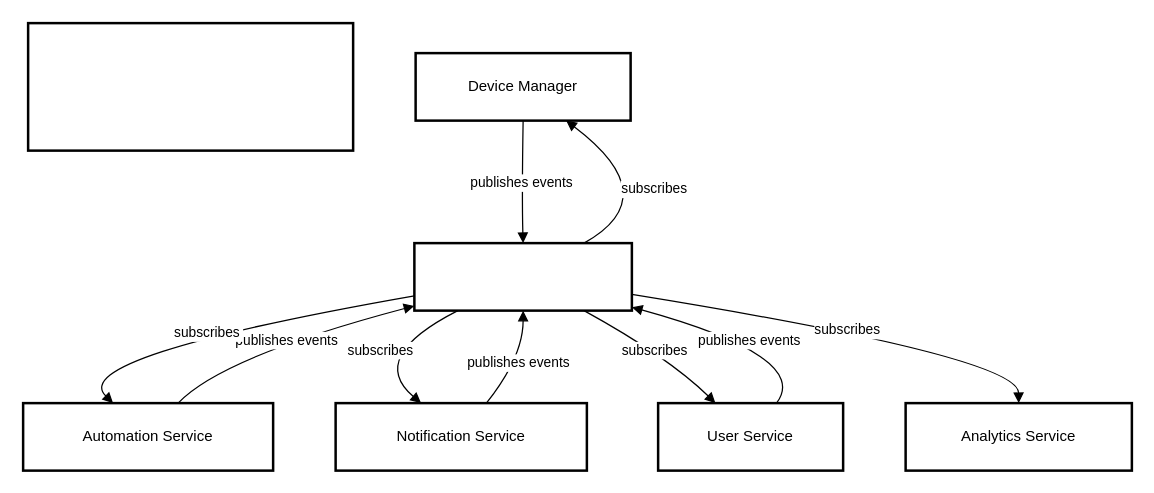
Some shapes in this 1154 by 493 pixel diagram are drawn without their labels. Here are the shapes that lost their labels. From the top down, the centre of each, then its label:
At [190,86]: "After: Circular Dependencies Resolved with Event Bus".
At [522,276]: "Kafka Event Bus".
